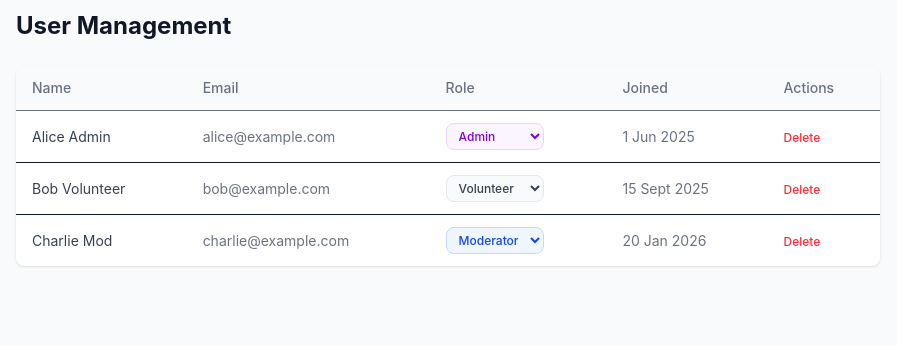
Test: UserManagement › shows error when role change fails
Check: the text "Alice Admin" is shown, box [16,110,187,162]
Select "Volunteer" in the dropdown in the row of "Alice Admin" at (495, 136), box [446,123,544,150]
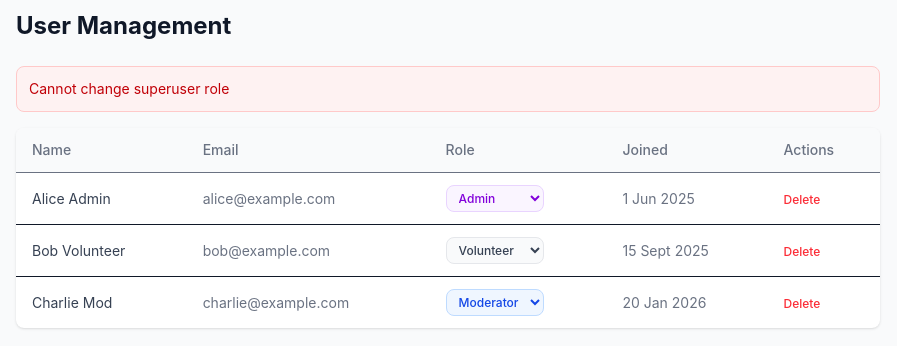
Check: the text "Cannot change superuser role" is shown, box [16,66,880,112]
